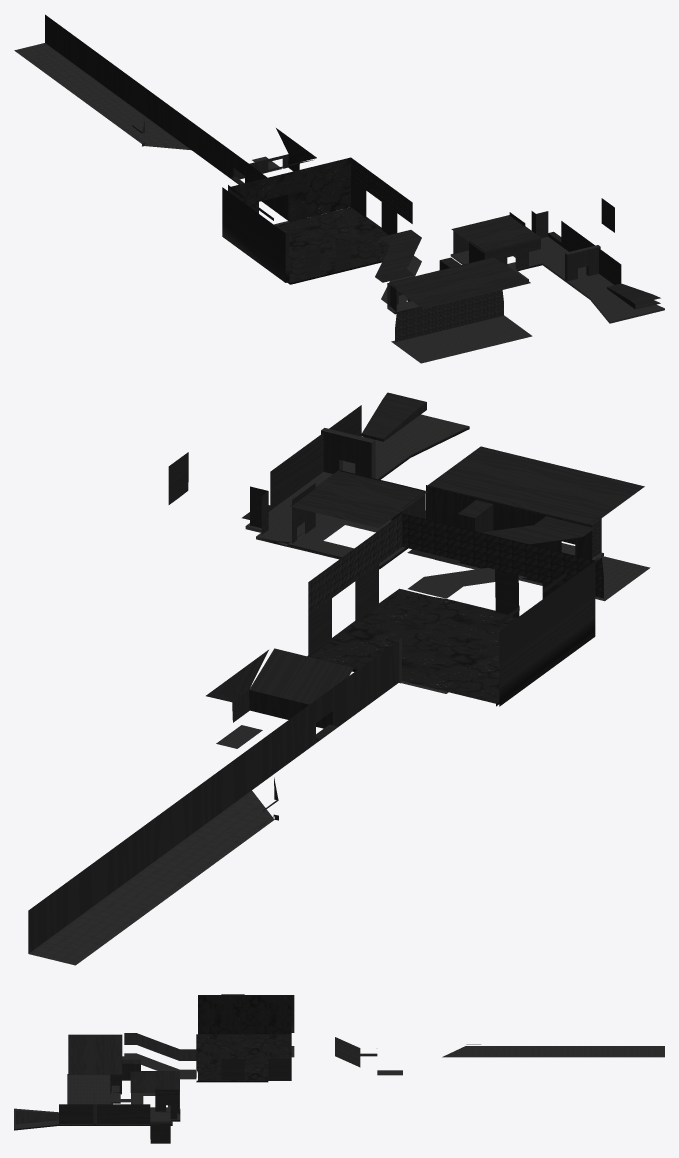
The model's file is TutorialLevelBLK.fbx.
3 renders of one model, top to bottom at view 1: azimuth 30°, elevation 25°; view 2: azimuth 150°, elevation 25°; view 3: azimuth 270°, elevation 25°, orthographic. The views are drawn at different scales.
Visible parts, largest first — view 1: TutorialLevel.001; view 2: TutorialLevel.001; view 3: TutorialLevel.001.
Part boxes in pixels (bbox=[...]): TutorialLevel.001: bbox=[14, 14, 664, 363]; TutorialLevel.001: bbox=[28, 392, 650, 965]; TutorialLevel.001: bbox=[14, 994, 664, 1143].
Bounding box in the file's own units: 18758 × 4969 × 46518.
